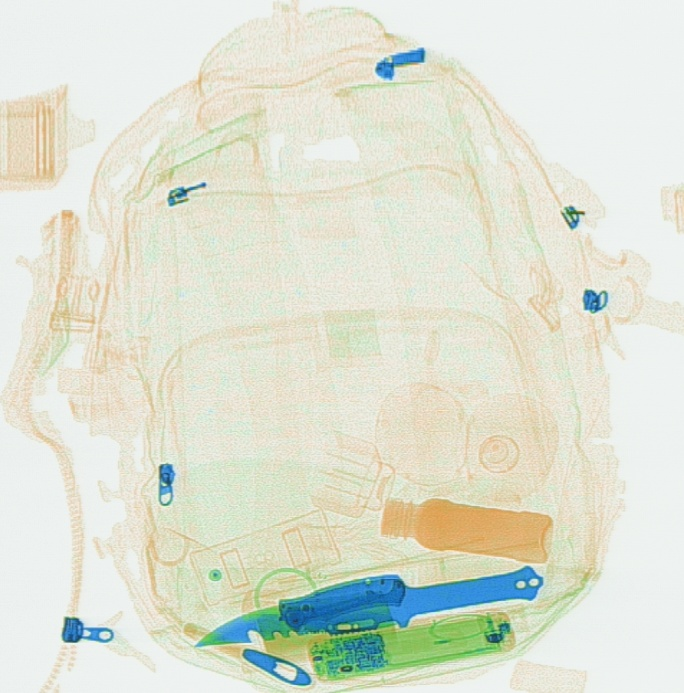knife: (191, 565, 544, 649), (274, 572, 407, 632)
